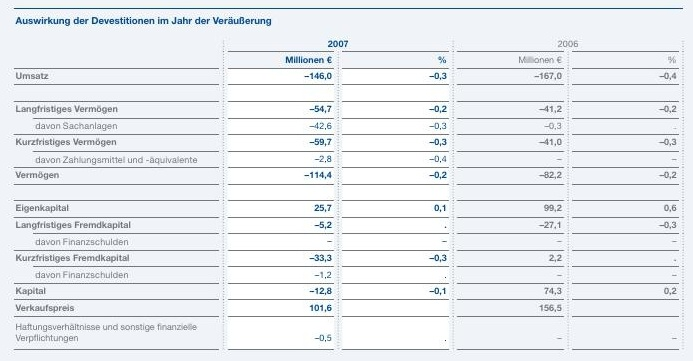table: (0, 0, 693, 361)
